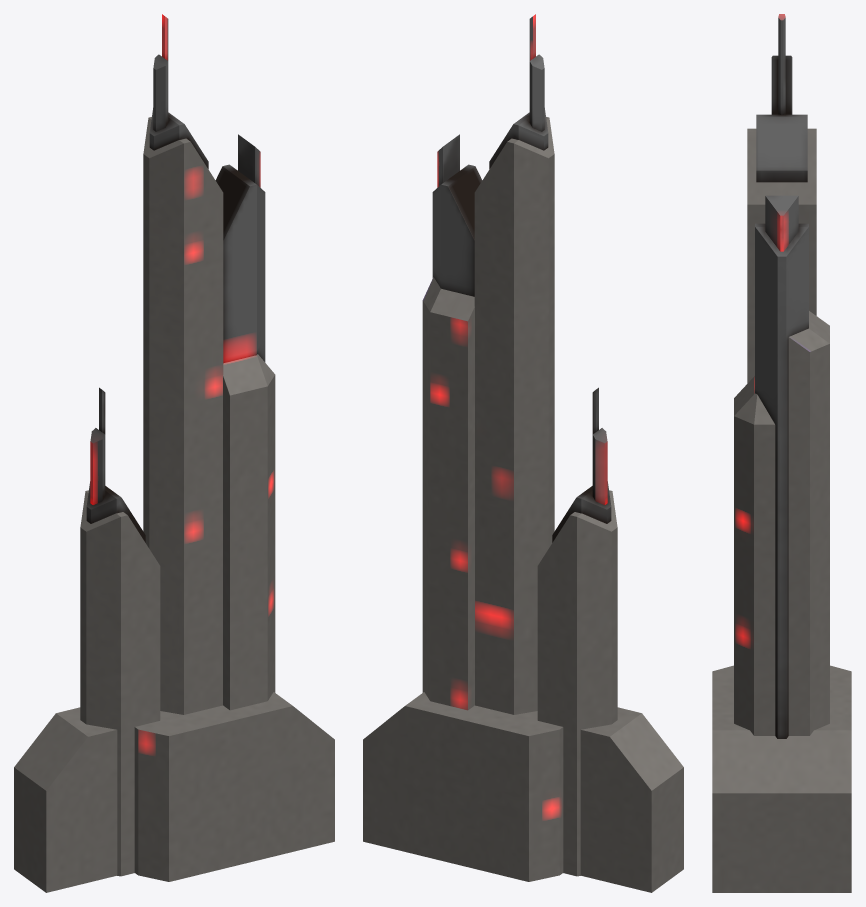
Rendered from SM_BackgroundBuilding_011.fbx.
The picture shows the model from 3 angles, left to right: view 1: azimuth 30°, elevation 25°; view 2: azimuth 150°, elevation 25°; view 3: azimuth 270°, elevation 25°; orthographic projection. The views are drawn at different scales.
Visible parts, largest first — view 1: SM_BackgroundBuilding_011; view 2: SM_BackgroundBuilding_011; view 3: SM_BackgroundBuilding_011.
Part boxes in pixels (<box>): SM_BackgroundBuilding_011: <box>14,14,334,892</box>; SM_BackgroundBuilding_011: <box>363,14,683,892</box>; SM_BackgroundBuilding_011: <box>712,14,851,892</box>.
Size of the model in its own units: 1290 by 593 by 3820.
1 material, 1 textured.
